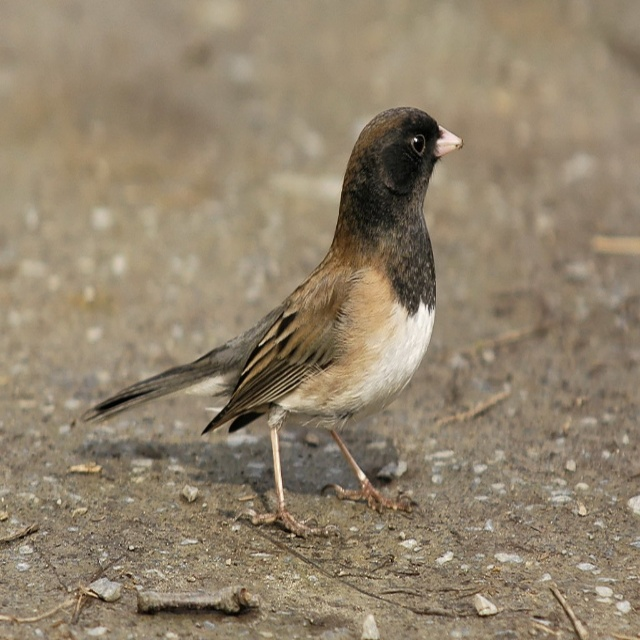Sparrow: (78, 99, 464, 544)
